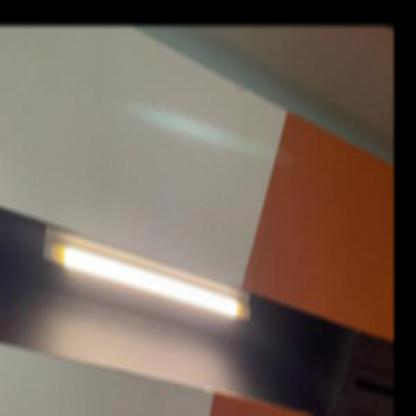light_on: (38, 204, 260, 336)
